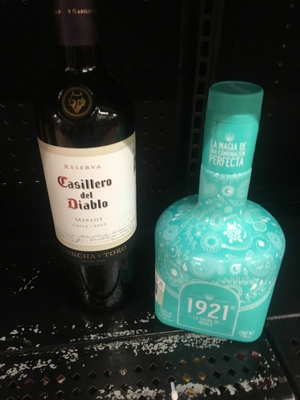casillero del diablo merlot: (34, 13, 152, 304)
